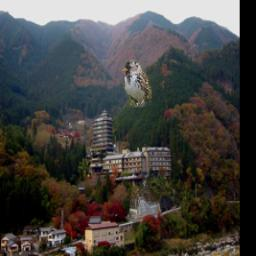Sparrow: (123, 59, 152, 107)
